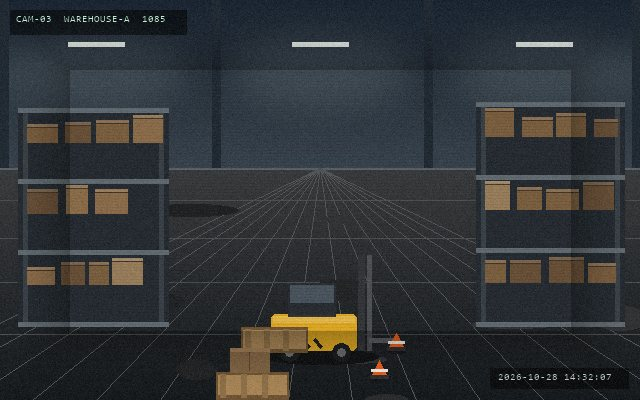cone: (369, 358, 389, 381), (386, 331, 406, 353)
forklift: (267, 253, 401, 364)
pallet: (214, 370, 290, 399), (239, 325, 309, 354)
shelf: (476, 102, 624, 322), (18, 108, 168, 322)
